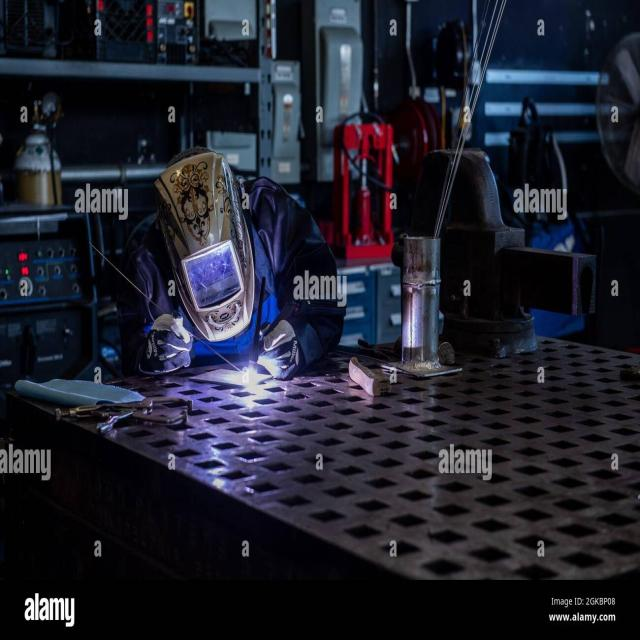welding: (240, 362, 266, 384)
